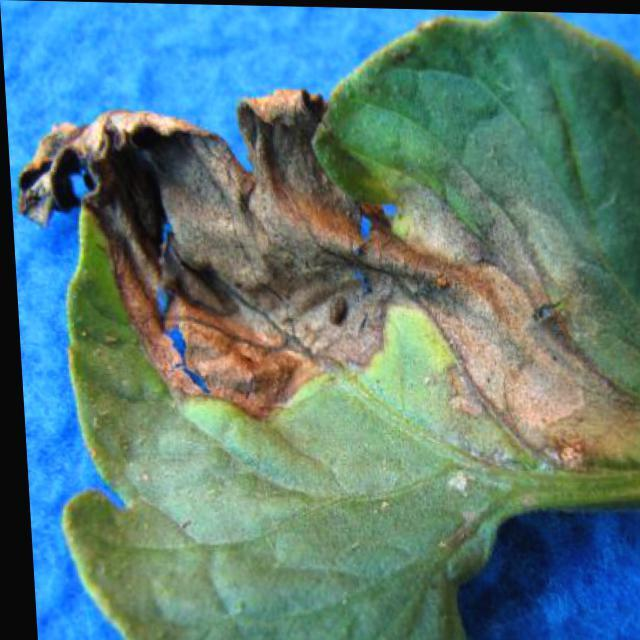Tomato mosaic virus leaf: (1, 3, 639, 639)
